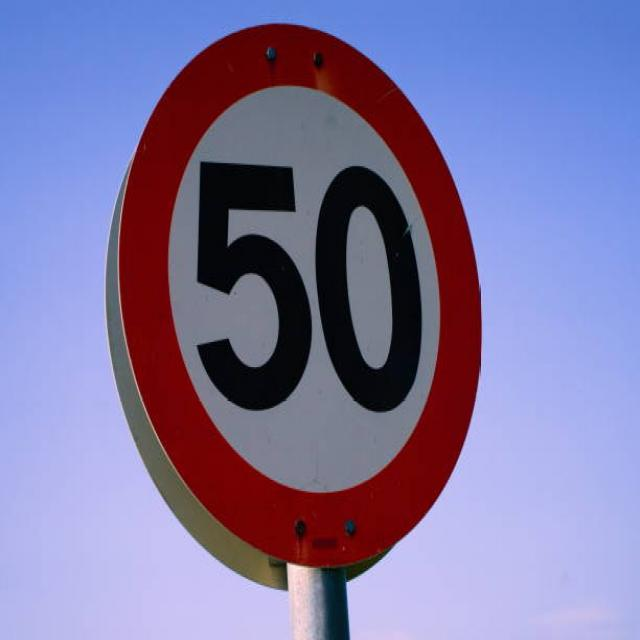speed_limit_50: (111, 11, 494, 570)
